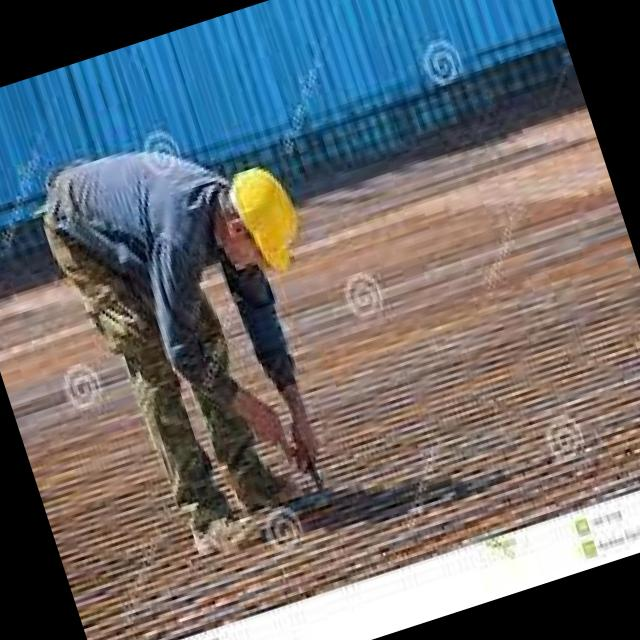hard_hat: (220, 153, 320, 287)
vehicle: (7, 71, 415, 608)
work_boots: (178, 483, 276, 578), (220, 440, 308, 530)
